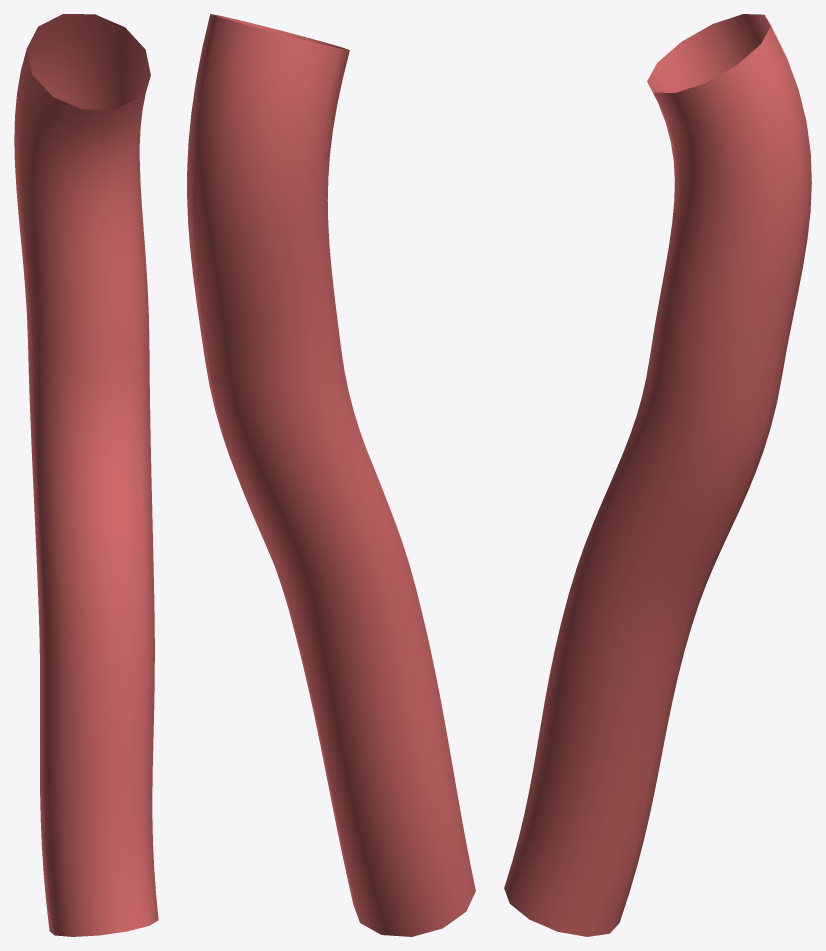
Rendered from Thoracic_aorta.glb.
The picture shows the model from 3 angles, left to right: view 1: azimuth 30°, elevation 25°; view 2: azimuth 150°, elevation 25°; view 3: azimuth 270°, elevation 25°; orthographic projection. The views are drawn at different scales.
Visible parts, largest first — view 1: Thoracic_aorta_BezierCurve.190; view 2: Thoracic_aorta_BezierCurve.190; view 3: Thoracic_aorta_BezierCurve.190.
Boxes of the visible parts, x1=… form: Thoracic_aorta_BezierCurve.190: x1=14, y1=14, x2=158, y2=936; Thoracic_aorta_BezierCurve.190: x1=187, y1=14, x2=475, y2=936; Thoracic_aorta_BezierCurve.190: x1=504, y1=14, x2=811, y2=936.
Size of the model in its own units: 0.0316 by 0.1604 by 0.0484.
